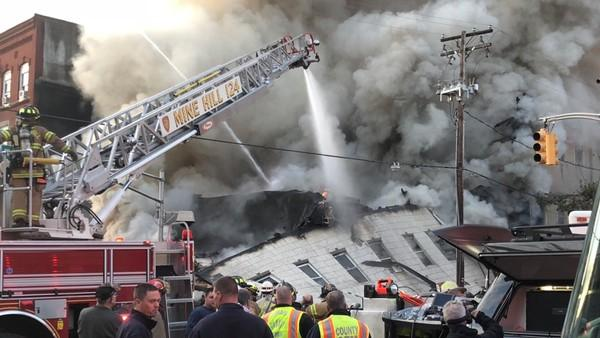smoke: (322, 4, 591, 183), (178, 90, 311, 246), (82, 31, 218, 96)
